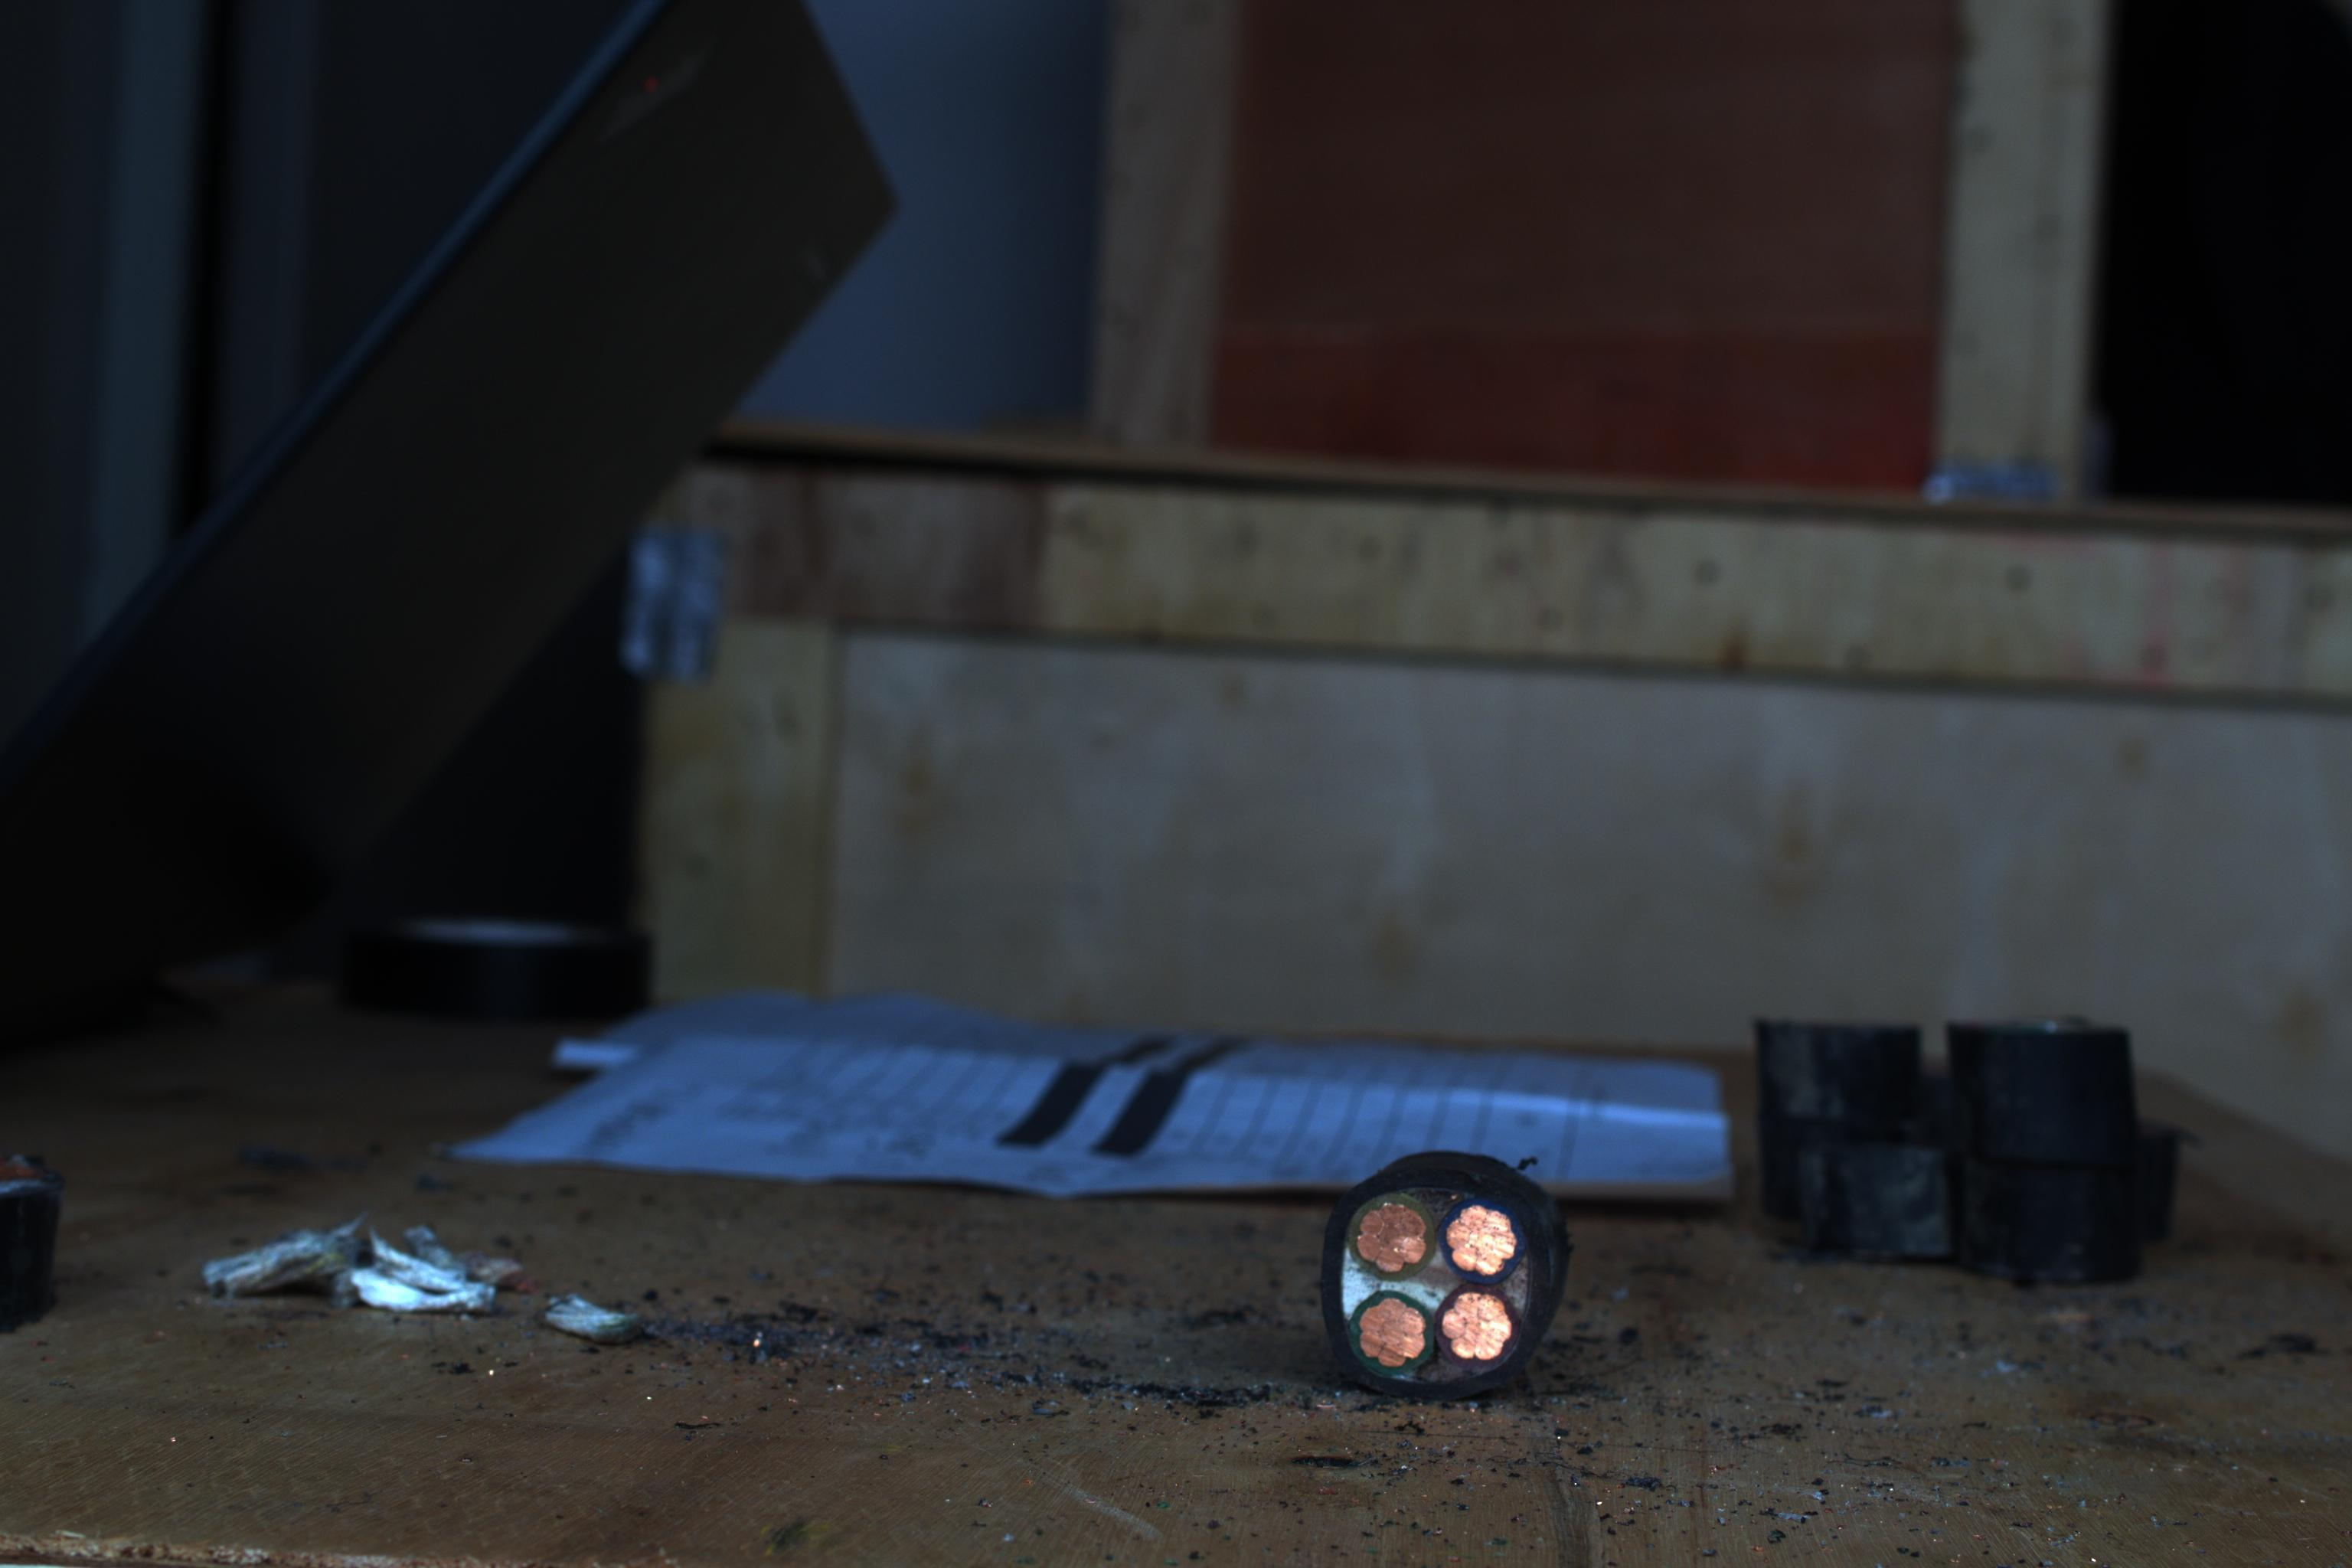YJV_0.6_1kV_4x35: (1305, 1143, 1552, 1405)
